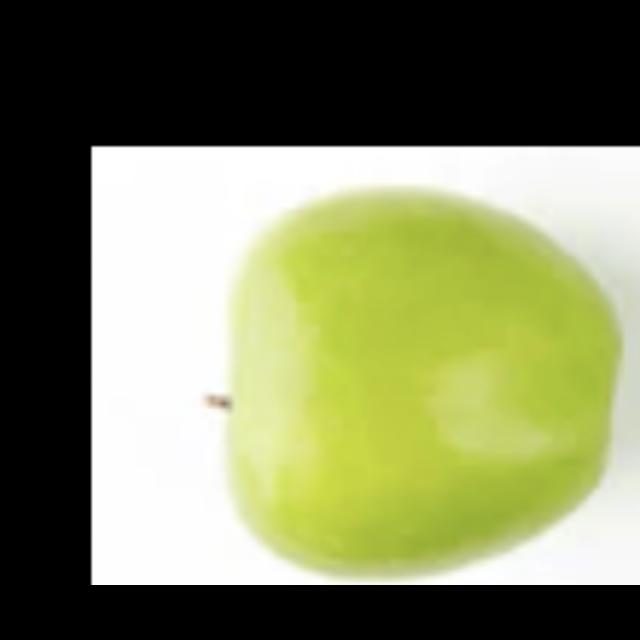Apel Segar: (195, 191, 633, 569)
